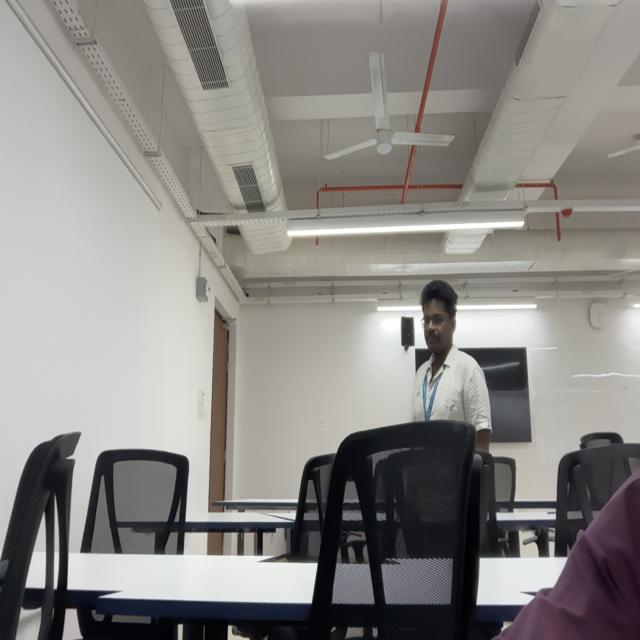sai: (418, 280, 458, 352)
